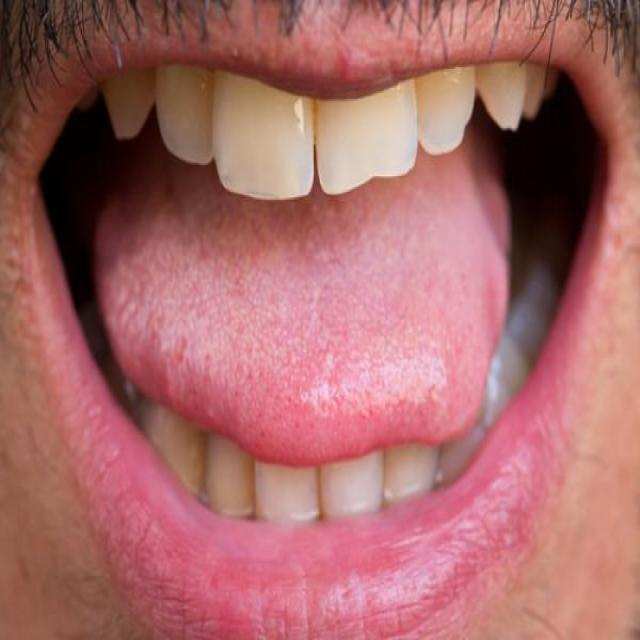baitaishe: (93, 202, 512, 469)
chihenshe: (480, 182, 513, 351)
